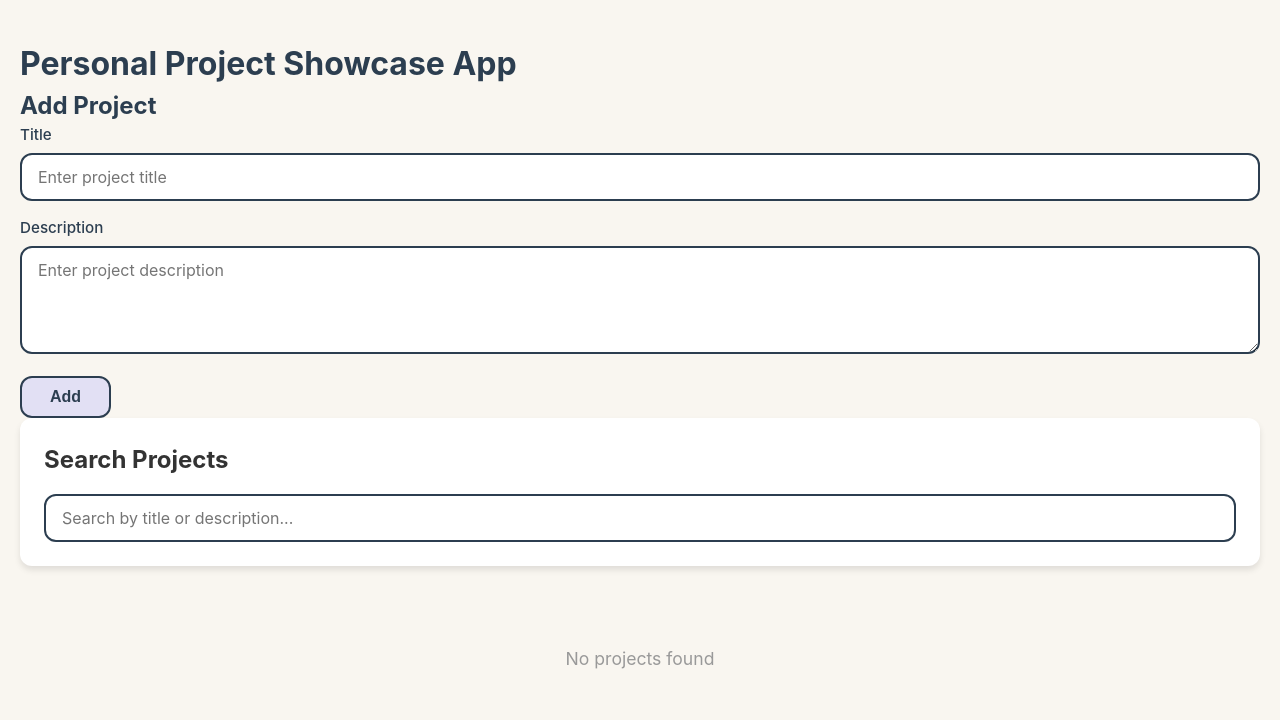
Test: App Integration Tests › adds a new project successfully
The width and height of the screenshot is (1280, 720).
Add a project
In the field with test id "project-title-input": x=640, y=177 [20,153,1260,201], type "My New Project"
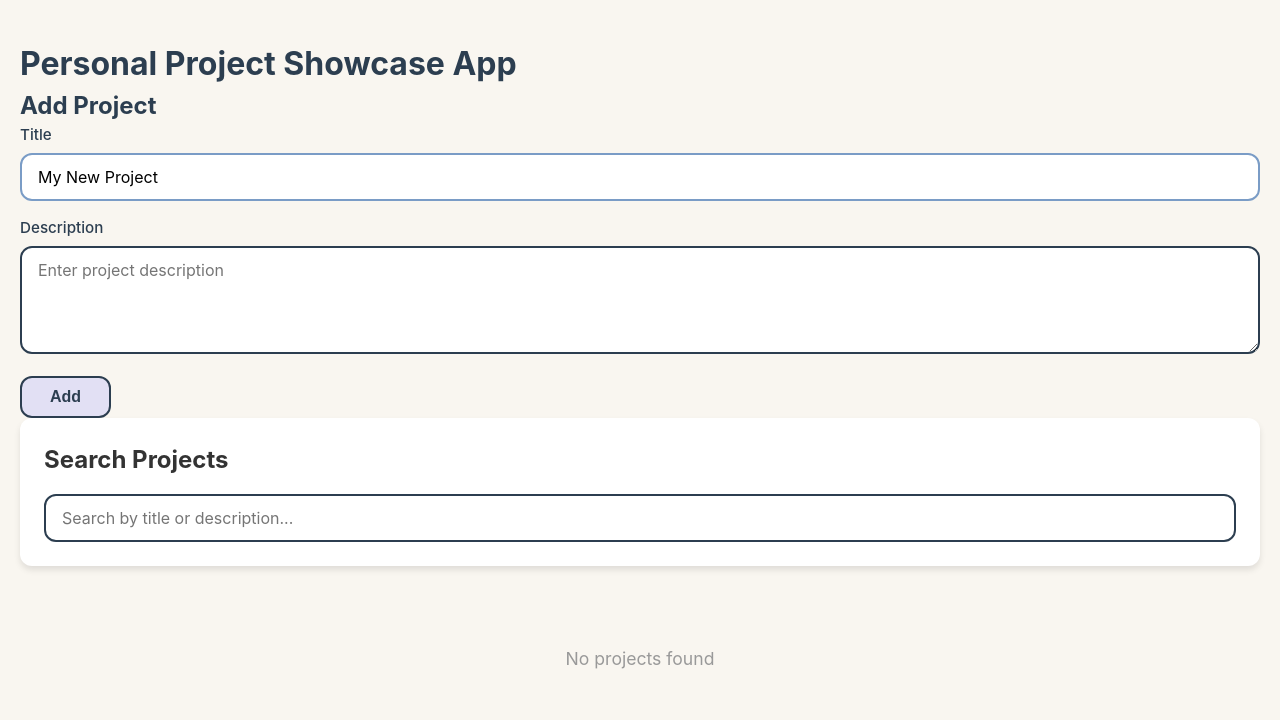
In the text box with test id "project-description-input": x=640, y=300 [20,246,1260,354], type "This is a test project"
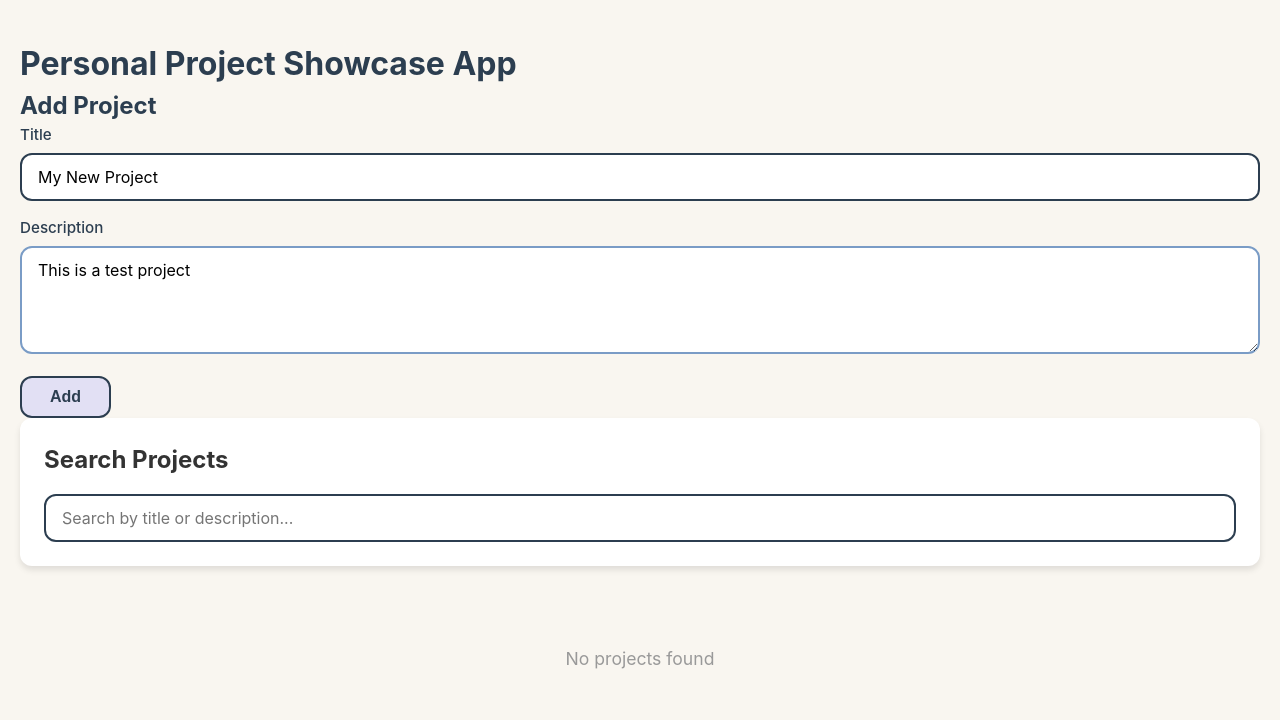
Click the button with test id "add-project-button": x=66, y=397 [20,376,111,418]
(page scrolled)
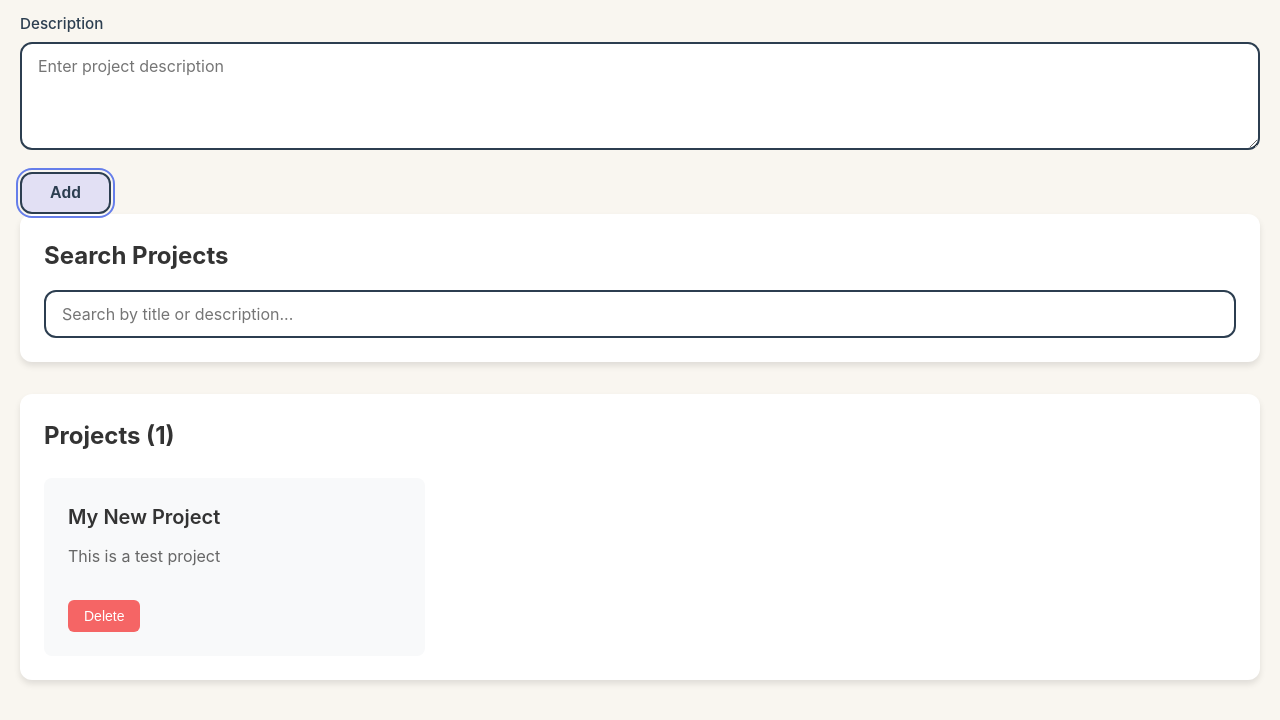
Check: the heading "My New Project" is shown, box [68,502,220,532]
Check: the text "This is a test project" is shown, box [68,544,220,568]
